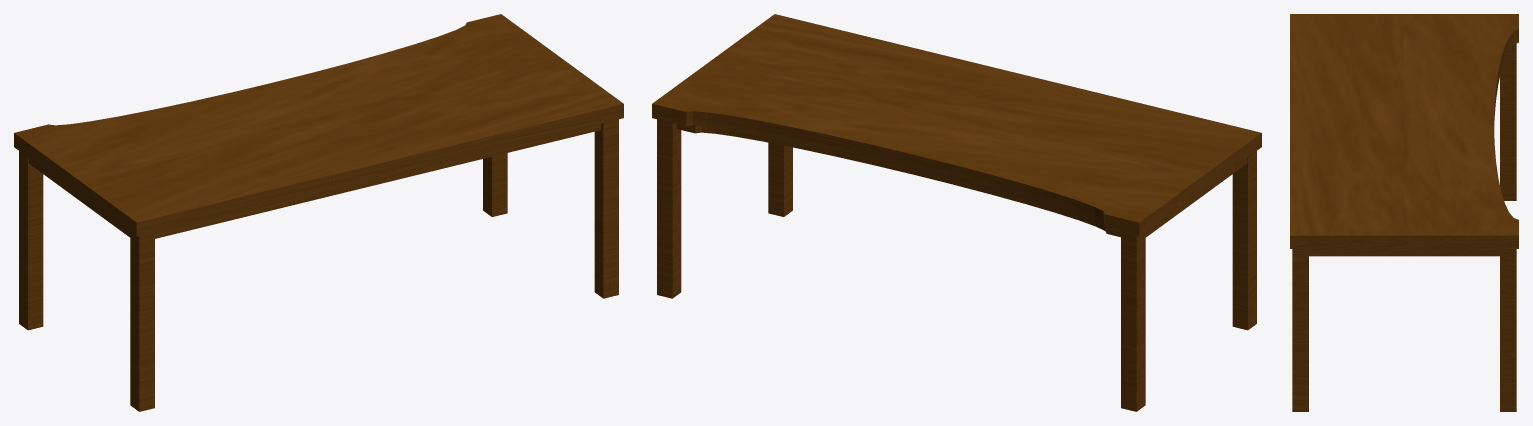
Rendered from stul.fbx.
3 views of the same model, side by side, from view 1: azimuth 30°, elevation 25°; view 2: azimuth 150°, elevation 25°; view 3: azimuth 270°, elevation 25° (orthographic). The views are drawn at different scales.
Visible parts, largest first — view 1: Cube.006; view 2: Cube.006; view 3: Cube.006.
Part boxes in pixels (left/top/right/bottom): Cube.006: left=14, top=14, right=623, bottom=411; Cube.006: left=652, top=14, right=1261, bottom=411; Cube.006: left=1290, top=14, right=1518, bottom=411.
Size of the model in its own units: 374 by 140 by 163.
1 material, 1 textured.
